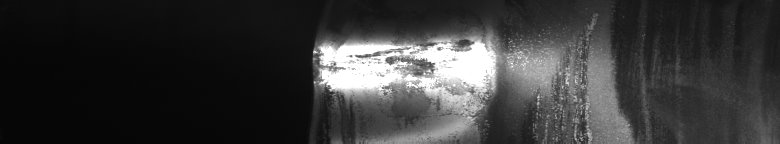ke: (324, 14, 680, 136)
